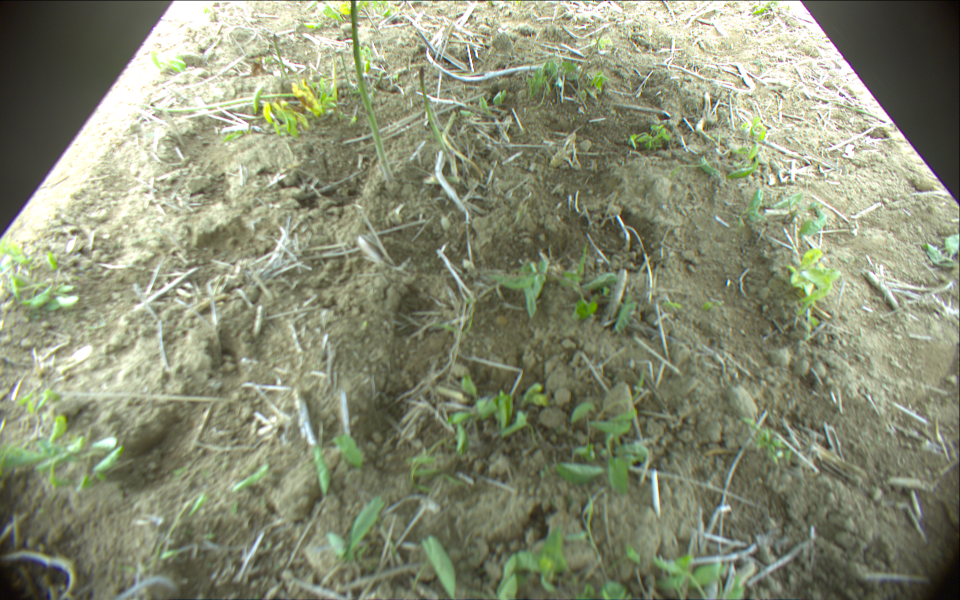aspa: (349, 1, 395, 187), (146, 92, 304, 113), (418, 65, 450, 163), (272, 34, 289, 83), (338, 53, 351, 96)
